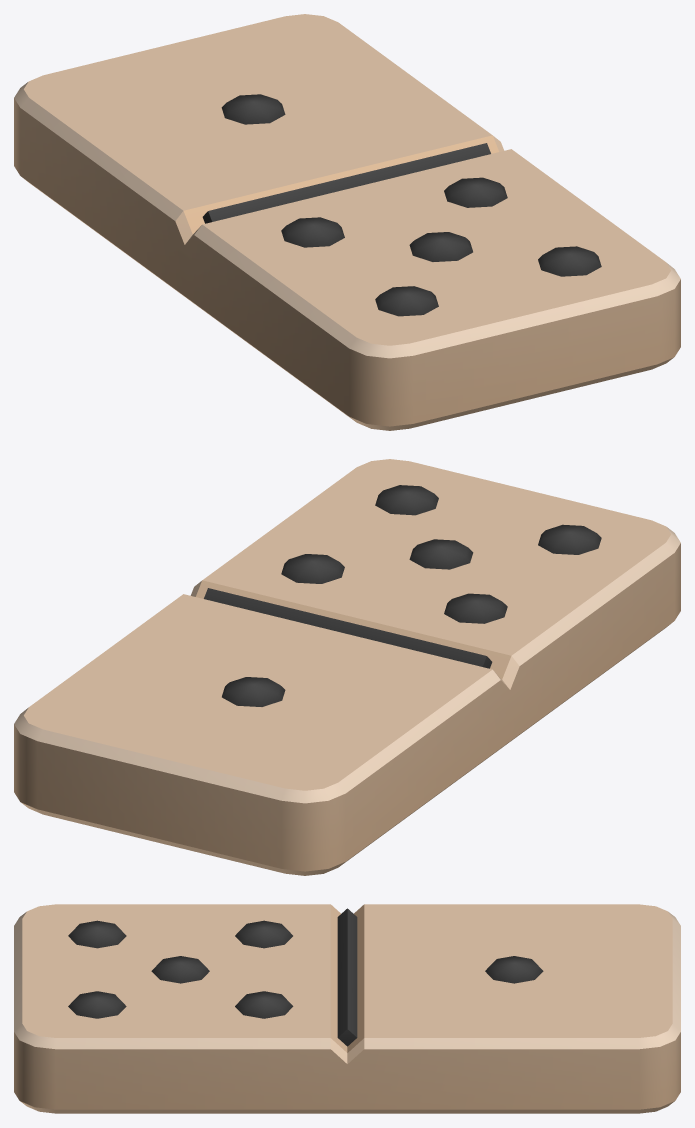
The model's file is domino_tile_1-5.glb.
3 renders of one model, top to bottom at view 1: azimuth 30°, elevation 25°; view 2: azimuth 150°, elevation 25°; view 3: azimuth 270°, elevation 25°, orthographic. The views are drawn at different scales.
Parts seen in each view (by area): view 1: domino_tile_1-5; view 2: domino_tile_1-5; view 3: domino_tile_1-5.
Part boxes in pixels (box(x1,y1,x2,y2)): domino_tile_1-5: box(14, 14, 680, 430); domino_tile_1-5: box(14, 459, 680, 875); domino_tile_1-5: box(14, 904, 680, 1113).
Size of the model in its own units: 1 by 0.2767 by 2.
Materials: 1 (1 with a texture image).
